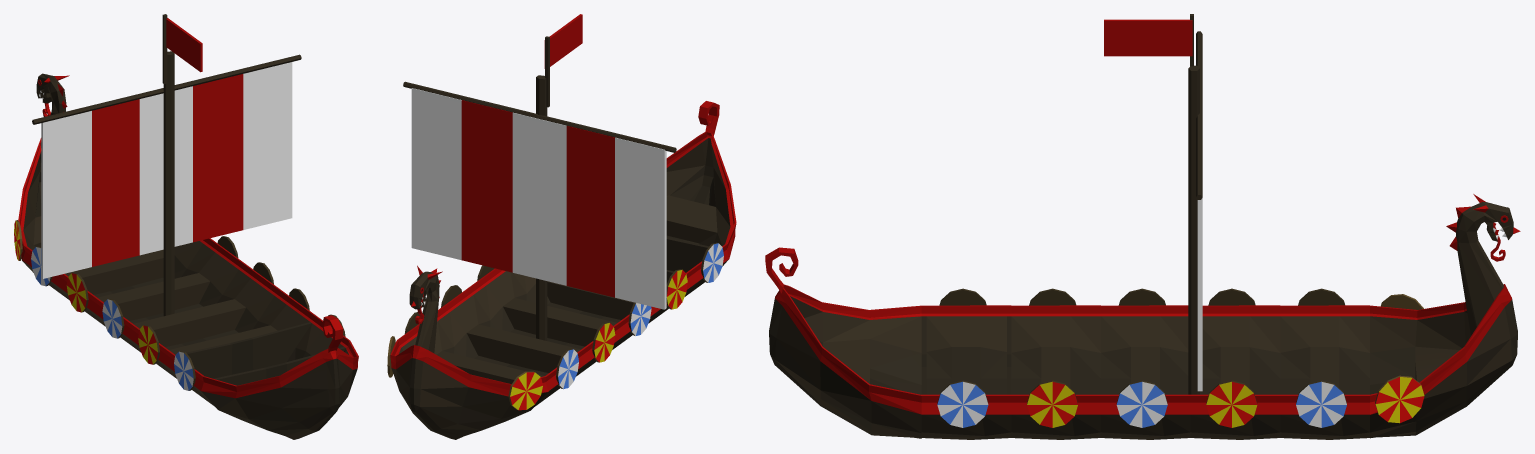
File: Ship_05.fbx
3 renders of one model, left to right at view 1: azimuth 30°, elevation 25°; view 2: azimuth 150°, elevation 25°; view 3: azimuth 270°, elevation 25°, orthographic. The views are drawn at different scales.
Parts seen in each view (by area): view 1: Ship_05, Sail, Flag; view 2: Sail, Ship_05, Flag; view 3: Ship_05, Flag, Sail.
Part boxes in pixels (x1,y1,x2,y2): Ship_05: [14, 14, 358, 439]; Sail: [41, 62, 292, 278]; Flag: [166, 18, 202, 72]; Sail: [411, 88, 666, 309]; Ship_05: [387, 36, 736, 439]; Flag: [544, 14, 582, 68]; Ship_05: [765, 14, 1520, 439]; Flag: [1104, 19, 1192, 56]; Sail: [1197, 198, 1202, 391].
Bounding box in the file's own units: 1640 × 1961 × 3202.
